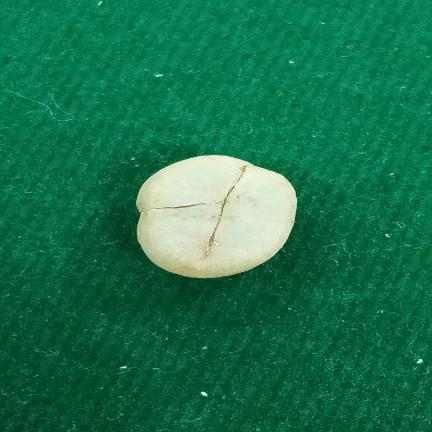parchment: (136, 155, 296, 278)
